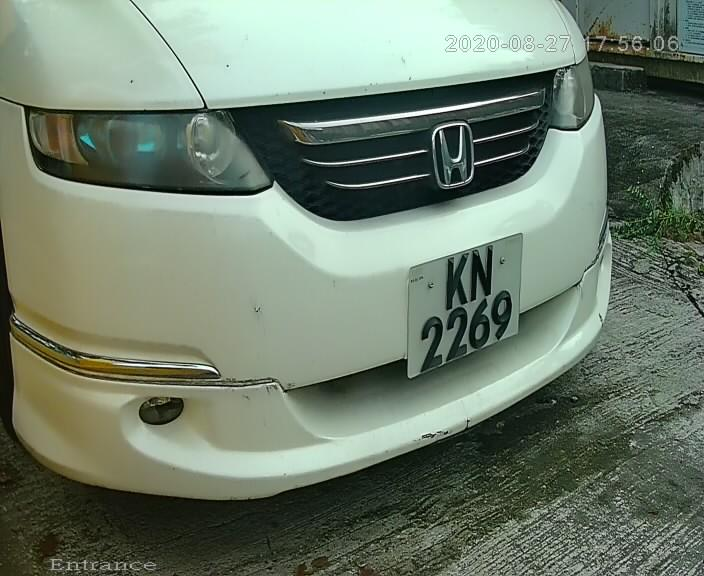License Plate: (388, 220, 550, 387)
